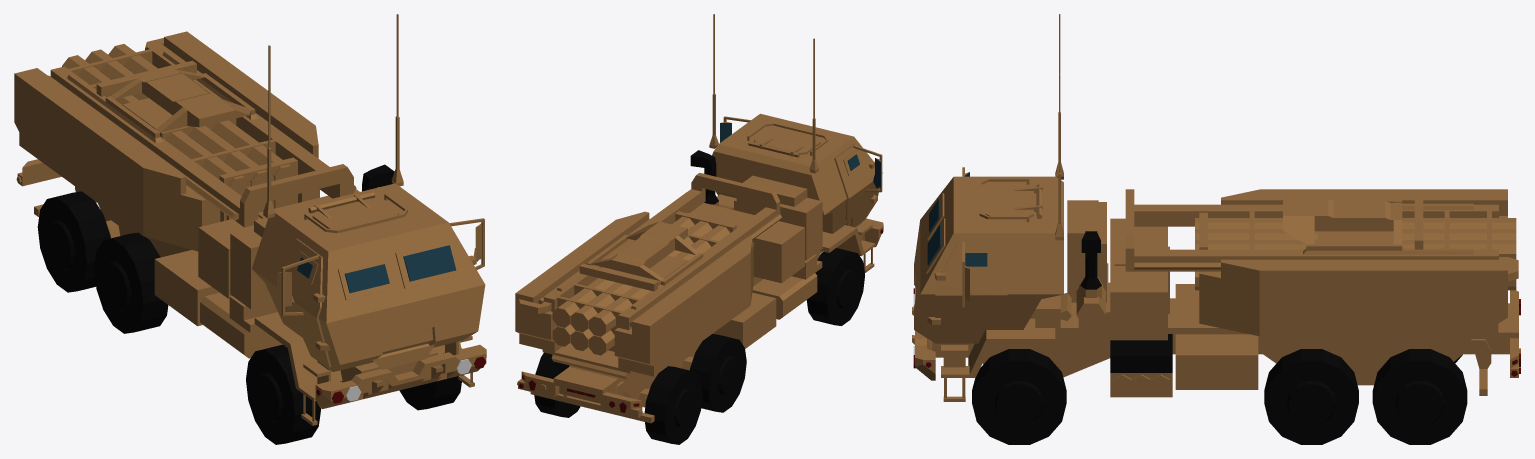
The model's file is HIMARS_NATO-Desert.fbx.
3 views of the same model, side by side, from view 1: azimuth 30°, elevation 25°; view 2: azimuth 150°, elevation 25°; view 3: azimuth 270°, elevation 25° (orthographic). The views are drawn at different scales.
Parts seen in each view (by area): view 1: HIMARS_Body, HIMARS_Rocket-Launcher, HIMARS_Wheel-Back_R-1, HIMARS_Wheel-Back_R-2, HIMARS_Wheel-Forward_R, HIMARS_Body_Glass-Parts, HIMARS_Wheel-Forward_L, HIMARS_Body_Same-Color-Parts; view 2: HIMARS_Rocket-Launcher, HIMARS_Body, HIMARS_Wheel-Back_R-2, HIMARS_Wheel-Forward_R, HIMARS_Wheel-Back_R-1, HIMARS_Wheel-Back_L-2, HIMARS_Body_Same-Color-Parts, HIMARS_Turret, HIMARS_Body_Glass-Parts; view 3: HIMARS_Body, HIMARS_Rocket-Launcher, HIMARS_Wheel-Back_L-2, HIMARS_Wheel-Back_L-1, HIMARS_Wheel-Forward_L, HIMARS_Body_Same-Color-Parts, HIMARS_Body_Glass-Parts.
Part boxes in pixels (x1,y1,x2,y2): HIMARS_Body: (16, 14, 486, 425); HIMARS_Rocket-Launcher: (14, 31, 356, 251); HIMARS_Wheel-Back_R-1: (94, 232, 168, 333); HIMARS_Wheel-Back_R-2: (37, 191, 110, 292); HIMARS_Wheel-Forward_R: (246, 345, 320, 444); HIMARS_Body_Glass-Parts: (297, 245, 456, 292); HIMARS_Wheel-Forward_L: (399, 376, 461, 410); HIMARS_Body_Same-Color-Parts: (362, 164, 394, 191); HIMARS_Rocket-Launcher: (515, 172, 781, 376); HIMARS_Body: (518, 14, 883, 423); HIMARS_Wheel-Back_R-2: (644, 366, 702, 444); HIMARS_Wheel-Forward_R: (806, 248, 864, 325); HIMARS_Wheel-Back_R-1: (689, 334, 746, 412); HIMARS_Wheel-Back_L-2: (534, 352, 580, 417); HIMARS_Body_Same-Color-Parts: (690, 150, 718, 204); HIMARS_Turret: (551, 355, 634, 379); HIMARS_Body_Glass-Parts: (720, 123, 880, 188); HIMARS_Body: (912, 14, 1520, 401); HIMARS_Rocket-Launcher: (1125, 189, 1518, 336); HIMARS_Wheel-Back_L-2: (1372, 349, 1467, 444); HIMARS_Wheel-Back_L-1: (1264, 349, 1358, 444); HIMARS_Wheel-Forward_L: (972, 349, 1066, 444); HIMARS_Body_Same-Color-Parts: (1080, 231, 1172, 372); HIMARS_Body_Glass-Parts: (927, 172, 987, 266).
Size of the model in its own units: 265 by 461 by 704.
